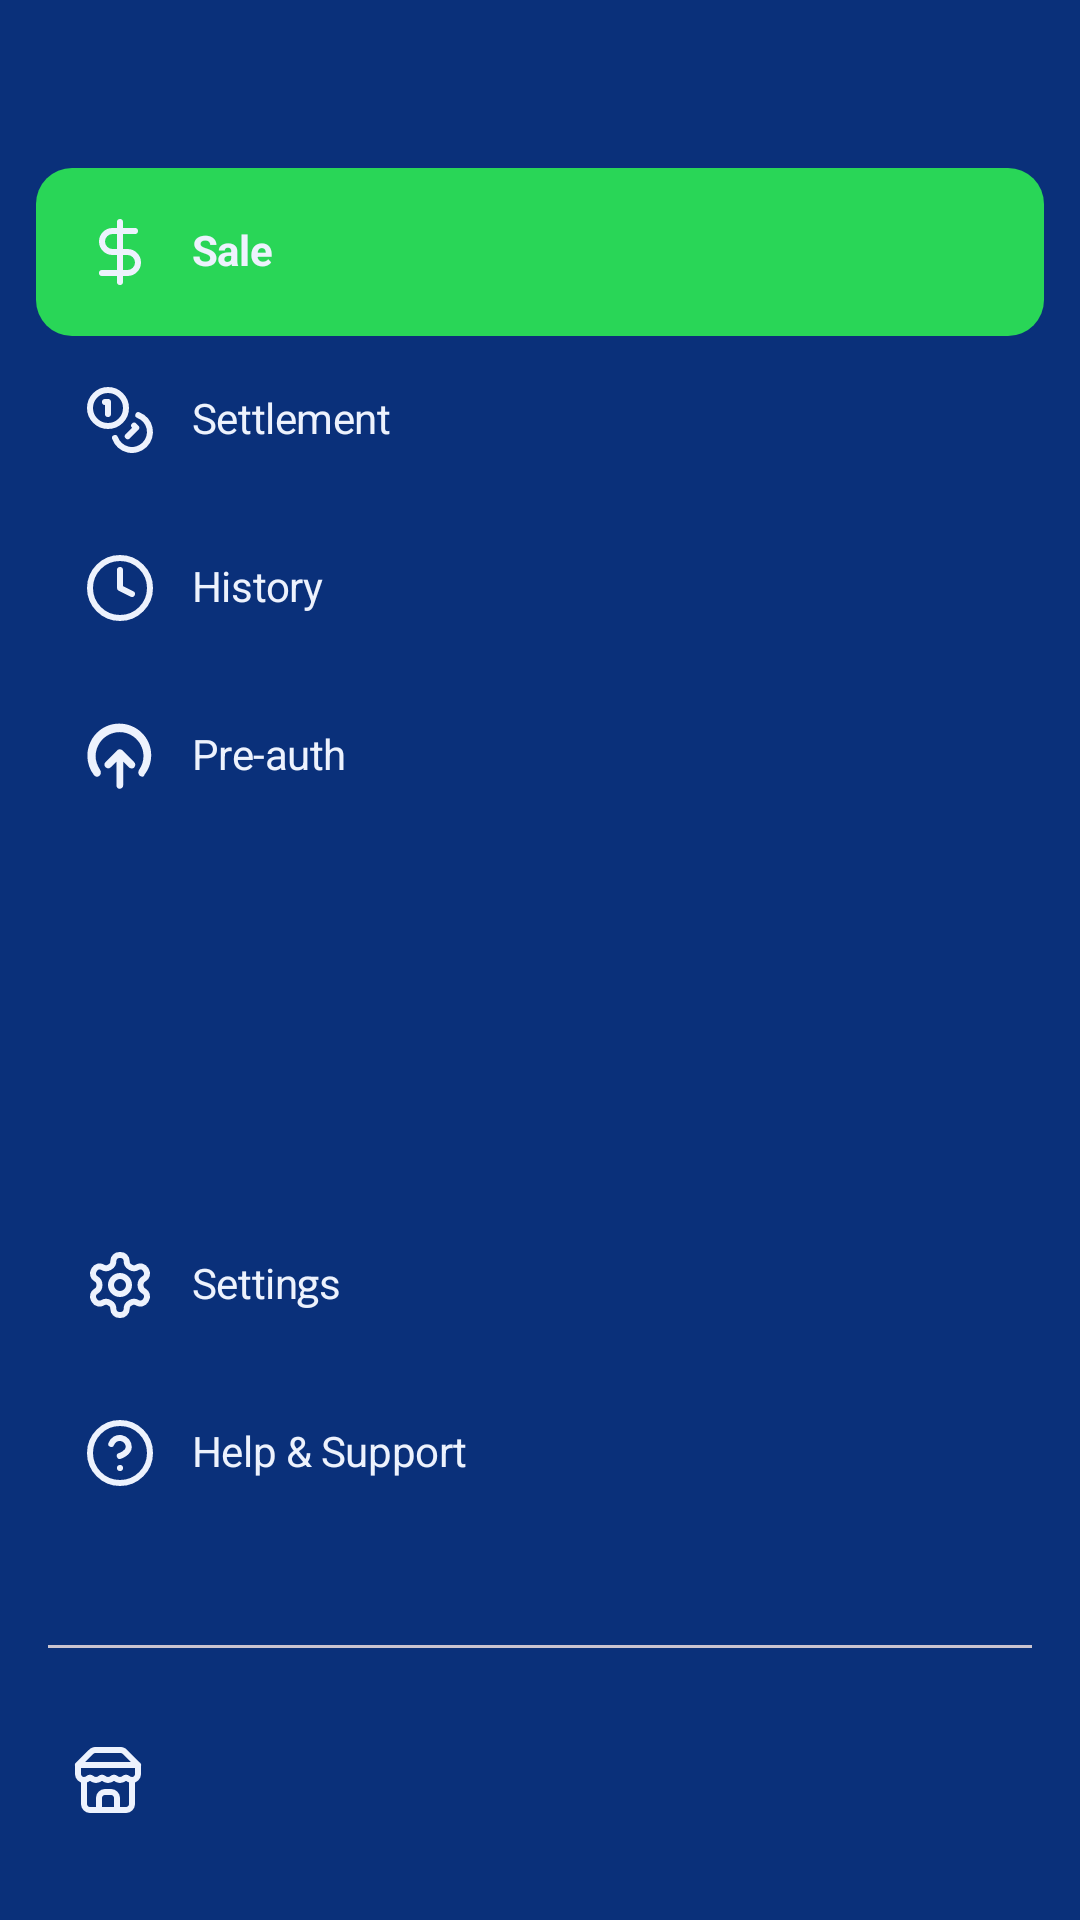

Icons on this 1080 × 1920 Android screen, each with the point to tap as (x=x, y=y):
biz merchant: (x=108, y=1780)
